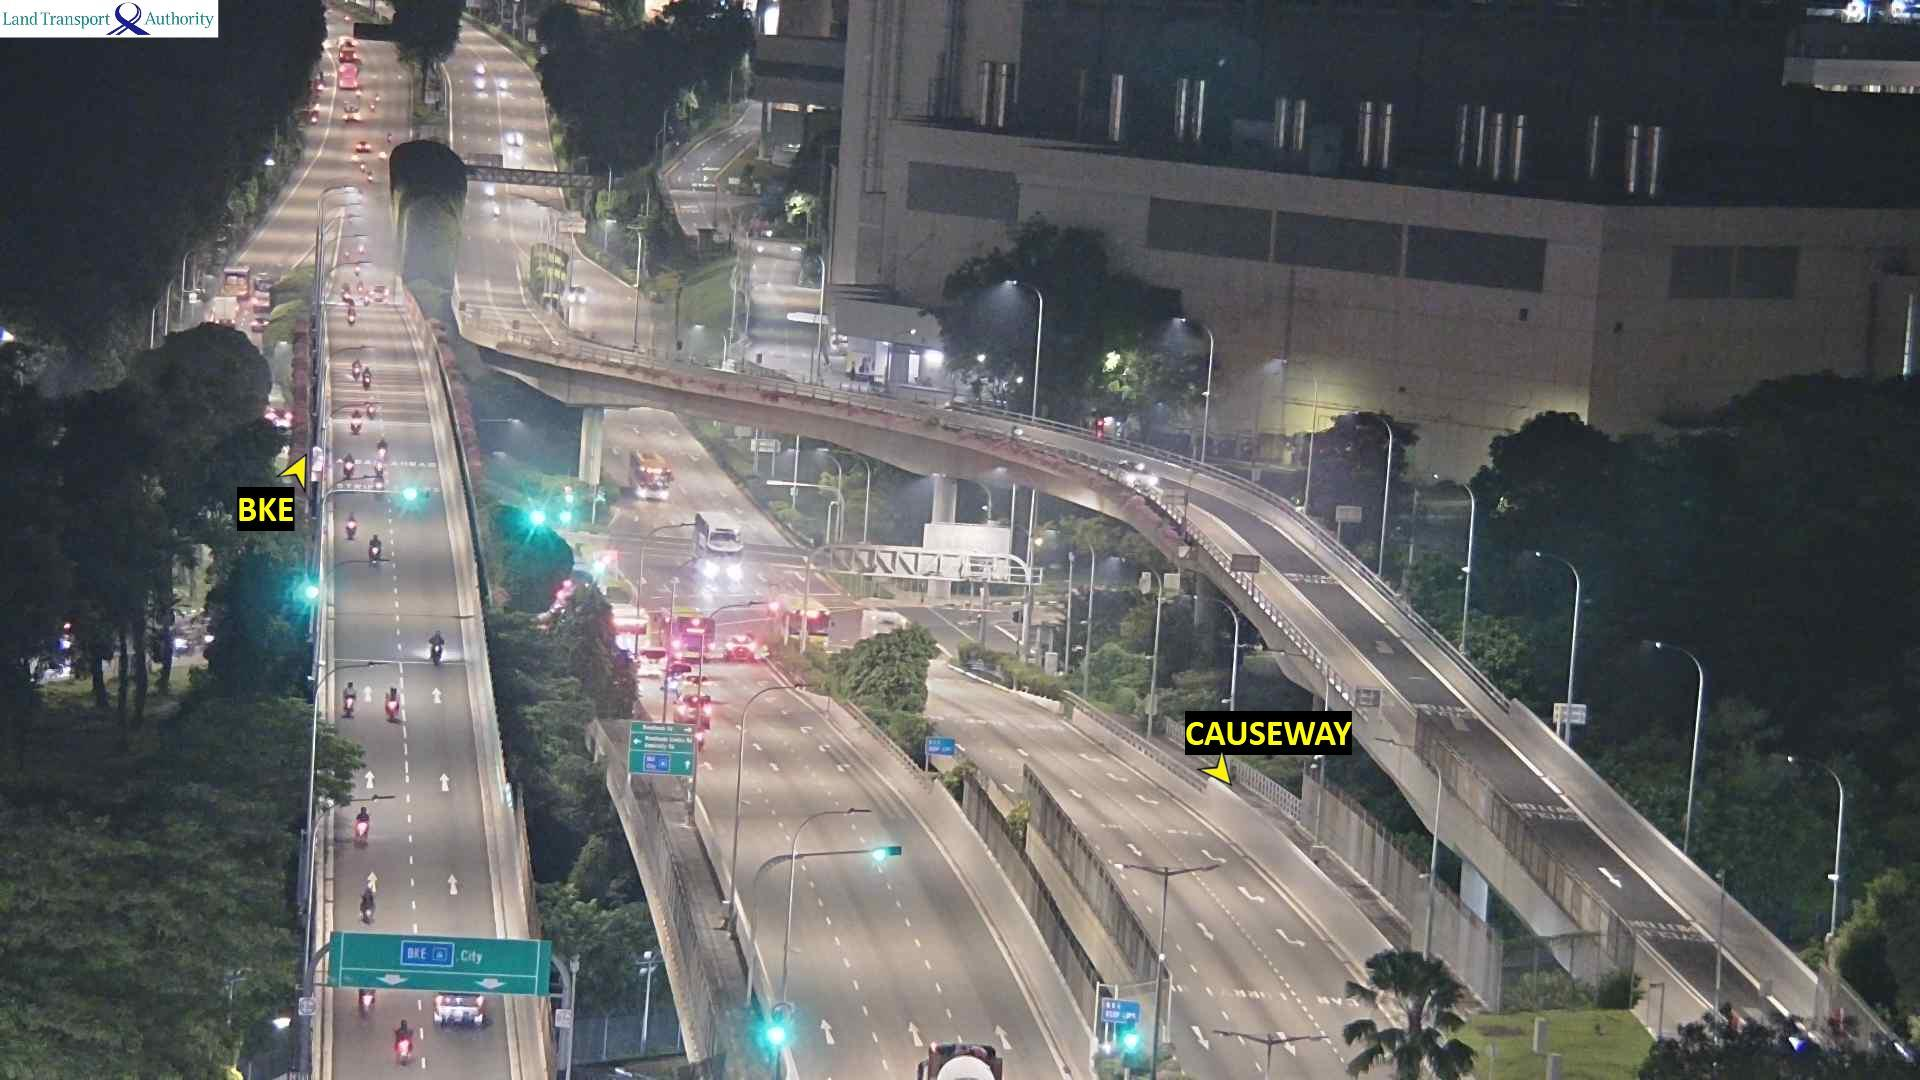vehicle-causeway-johor: (694, 513, 737, 571), (778, 596, 827, 644), (862, 611, 905, 640), (1117, 460, 1154, 488)
vehicle-causeway-singapore: (926, 1043, 1004, 1080), (431, 1000, 489, 1029), (680, 691, 716, 719), (724, 641, 761, 663), (397, 1029, 421, 1058), (665, 659, 694, 682), (429, 637, 446, 669), (388, 692, 402, 723), (355, 814, 369, 844), (363, 812, 378, 839), (638, 650, 665, 666), (360, 889, 372, 916), (339, 695, 351, 723), (371, 533, 381, 562), (375, 469, 384, 501), (359, 368, 369, 389), (367, 398, 377, 417), (378, 434, 385, 460), (351, 413, 359, 434), (345, 521, 352, 538), (343, 462, 349, 479)
